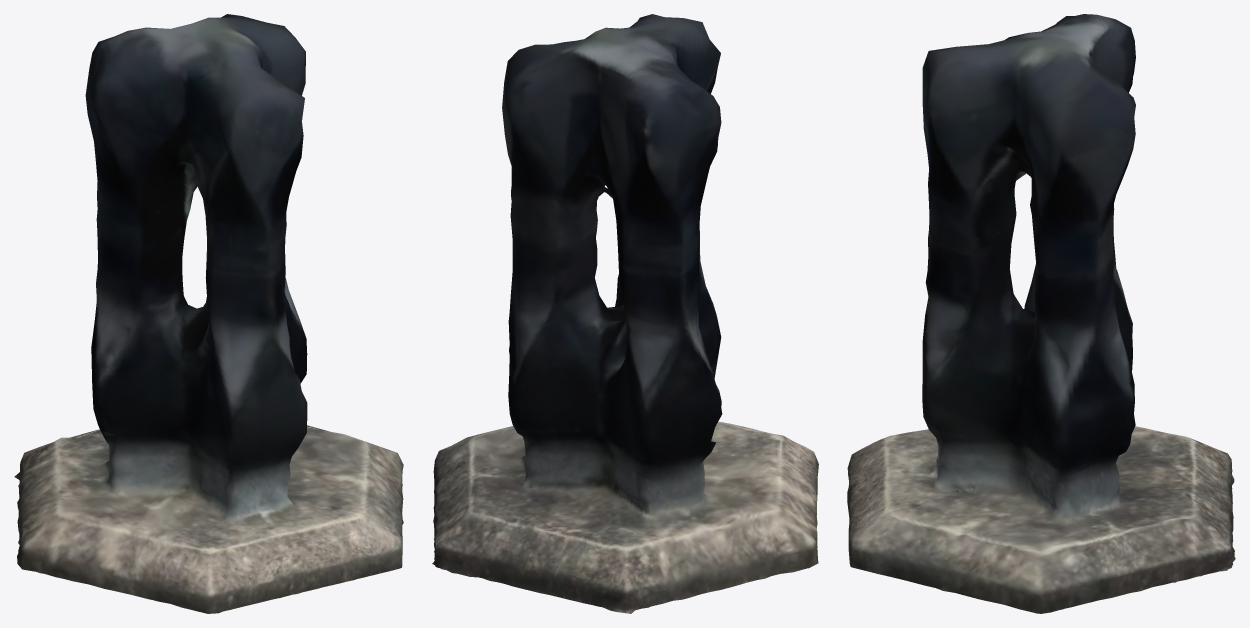
The model's file is monument-suzuka-kosen.glb.
3 renders of one model, left to right at view 1: azimuth 30°, elevation 25°; view 2: azimuth 150°, elevation 25°; view 3: azimuth 270°, elevation 25°, orthographic.
Parts seen in each view (by area): view 1: ObjectCapture; view 2: ObjectCapture; view 3: ObjectCapture.
Part boxes in pixels (bbox=[...]): ObjectCapture: bbox=[14, 14, 403, 613]; ObjectCapture: bbox=[432, 14, 818, 613]; ObjectCapture: bbox=[847, 14, 1235, 613].
Size of the model in its own units: 2.58 by 3.15 by 2.29.
Materials: 1 (1 with a texture image).
